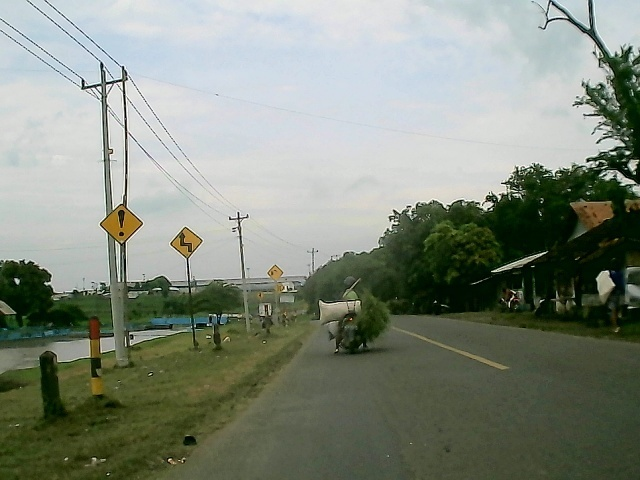Hati-hati: (99, 202, 144, 249)
Peringatan tepi air: (267, 264, 284, 284)
Tikungan garda pertama kiri: (166, 224, 205, 262)
